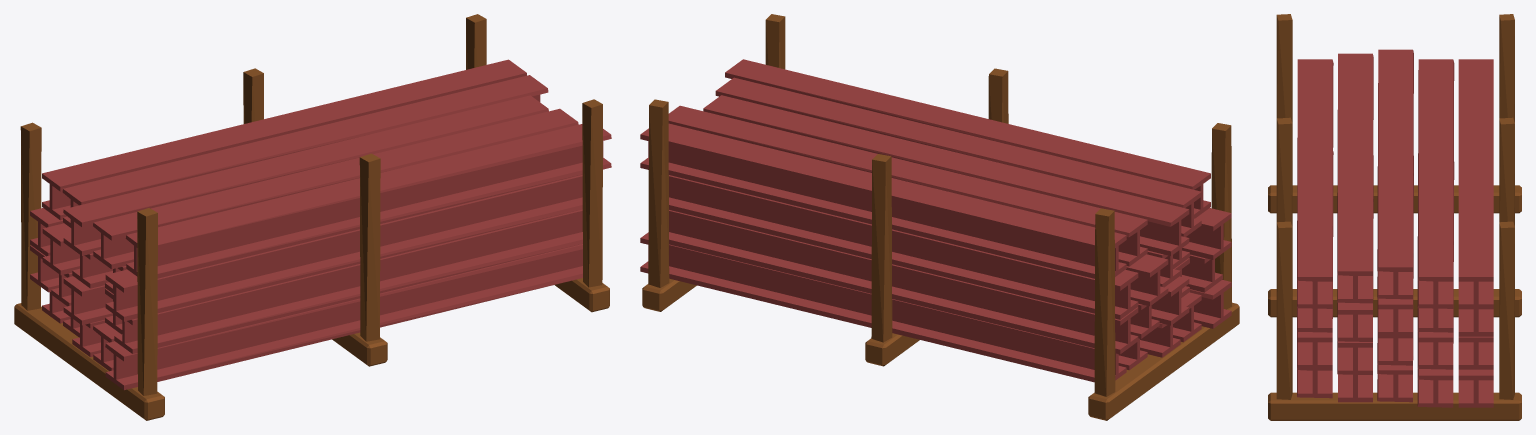
File: steel.glb
3 renders of one model, left to right at view 1: azimuth 30°, elevation 25°; view 2: azimuth 150°, elevation 25°; view 3: azimuth 270°, elevation 25°, orthographic. The views are drawn at different scales.
Parts seen in each view (by area): view 1: Steel Holder; view 2: Steel Holder; view 3: Steel Holder.
Boxes of the visible parts, x1=… form: Steel Holder: x1=14, y1=14, x2=611, y2=420; Steel Holder: x1=640, y1=14, x2=1239, y2=420; Steel Holder: x1=1268, y1=14, x2=1521, y2=420.
Bounding box in the file's own units: 0.42 × 0.1659 × 0.1983.
